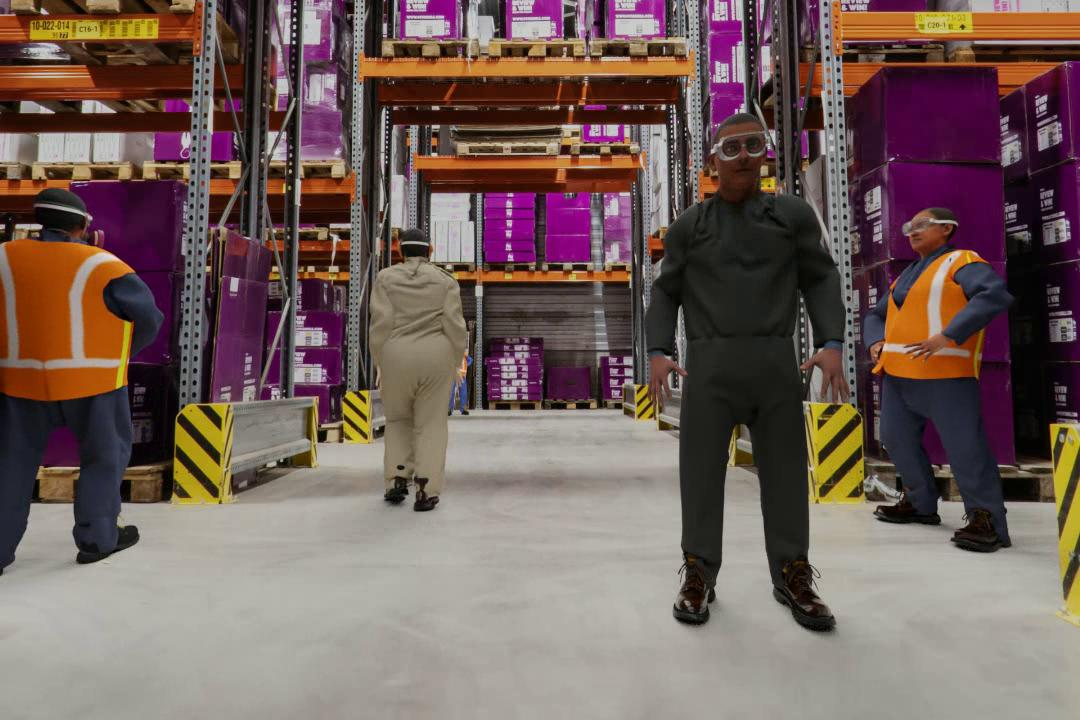Goggles: (706, 131, 771, 166), (897, 207, 950, 234)
Jacket: (7, 231, 123, 399), (886, 260, 981, 377)
Shoes: (764, 553, 849, 639), (659, 540, 729, 631), (943, 487, 1013, 560), (66, 514, 147, 564), (870, 479, 947, 529), (411, 481, 447, 516), (369, 480, 410, 504)
